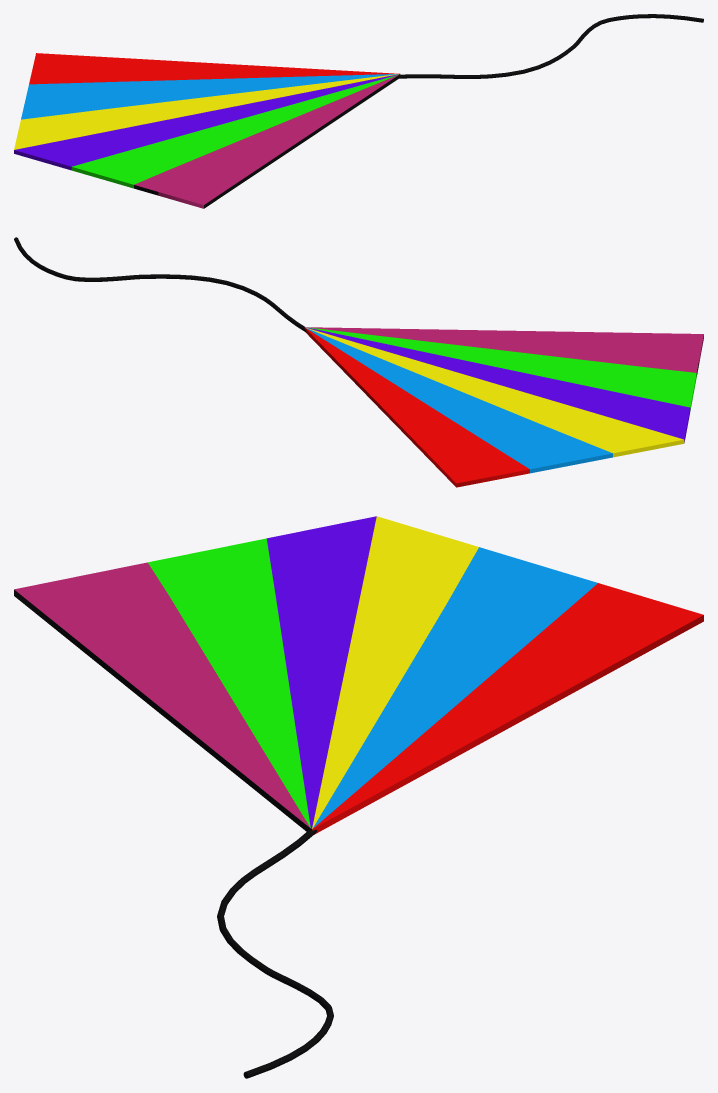
Rendered from Kite.obj.
The picture shows the model from 3 angles, top to bottom: view 1: azimuth 30°, elevation 25°; view 2: azimuth 150°, elevation 25°; view 3: azimuth 270°, elevation 25°; orthographic projection. The views are drawn at different scales.
Parts seen in each view (by area): view 1: Box002, Line003; view 2: Box002, Line003; view 3: Box002, Line003.
Part boxes in pixels (left/top/right/bottom): Box002: left=14, top=53, right=400, bottom=208; Line003: left=398, top=14, right=703, bottom=78; Box002: left=304, top=327, right=703, bottom=487; Line003: left=14, top=237, right=306, bottom=332; Box002: left=14, top=516, right=703, bottom=834; Line003: left=217, top=829, right=333, bottom=1078.
Bounding box in the file's own units: 1051568 × 6488 × 551352.
